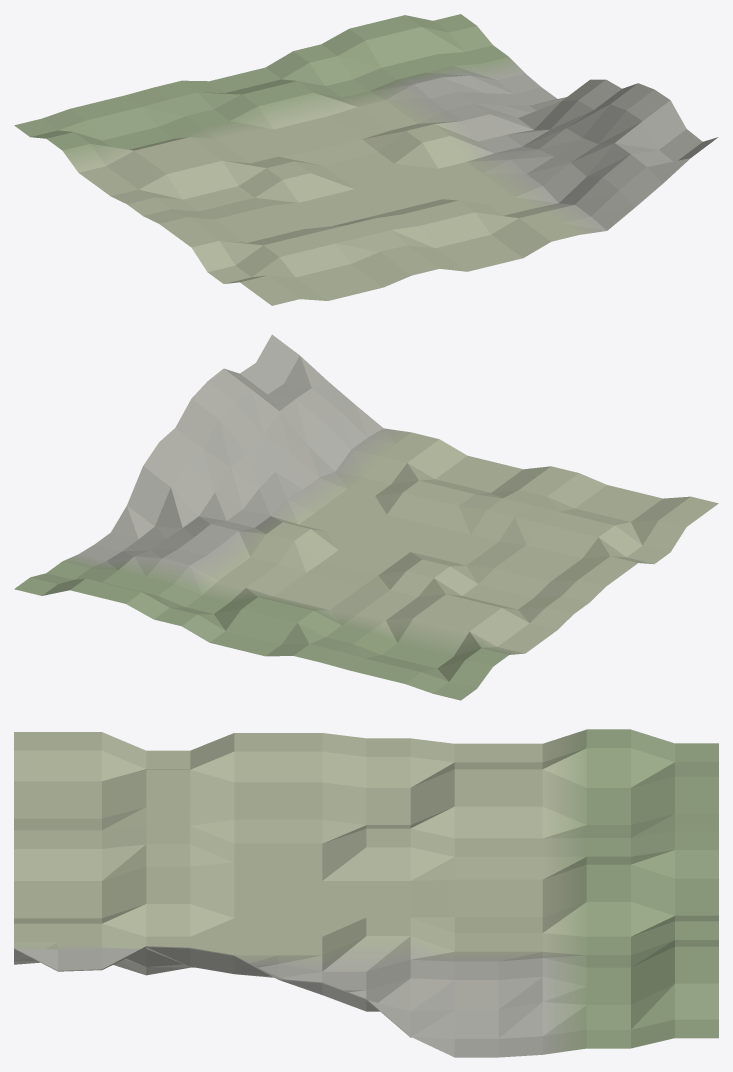
3 views of the same model, one above another, from view 1: azimuth 30°, elevation 25°; view 2: azimuth 150°, elevation 25°; view 3: azimuth 270°, elevation 25° (orthographic). The views are drawn at different scales.
Size of the model in its own units: 32 by 5.58 by 32.
